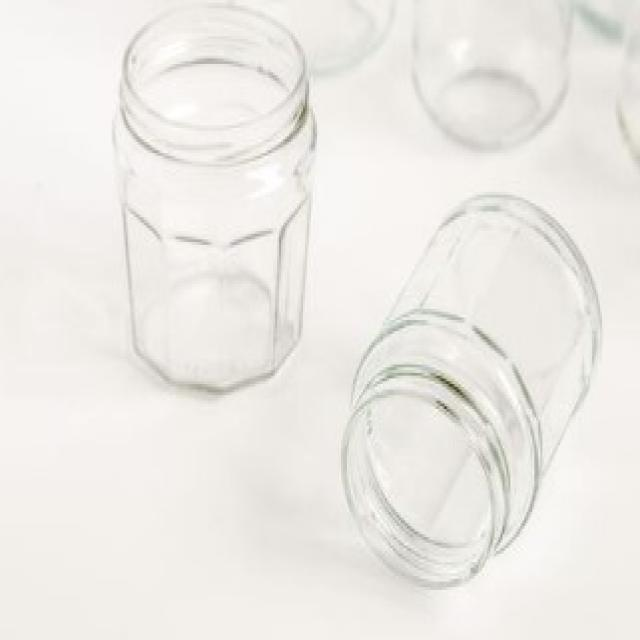electronic: (111, 0, 640, 584)
